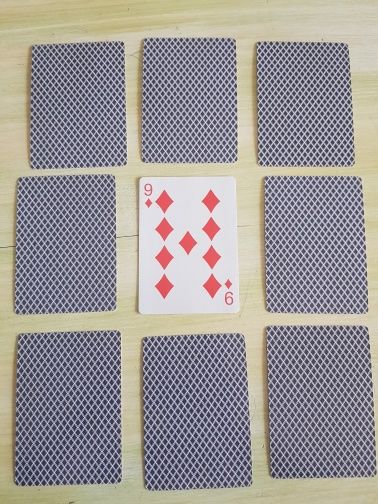nine: (136, 175, 241, 316)
